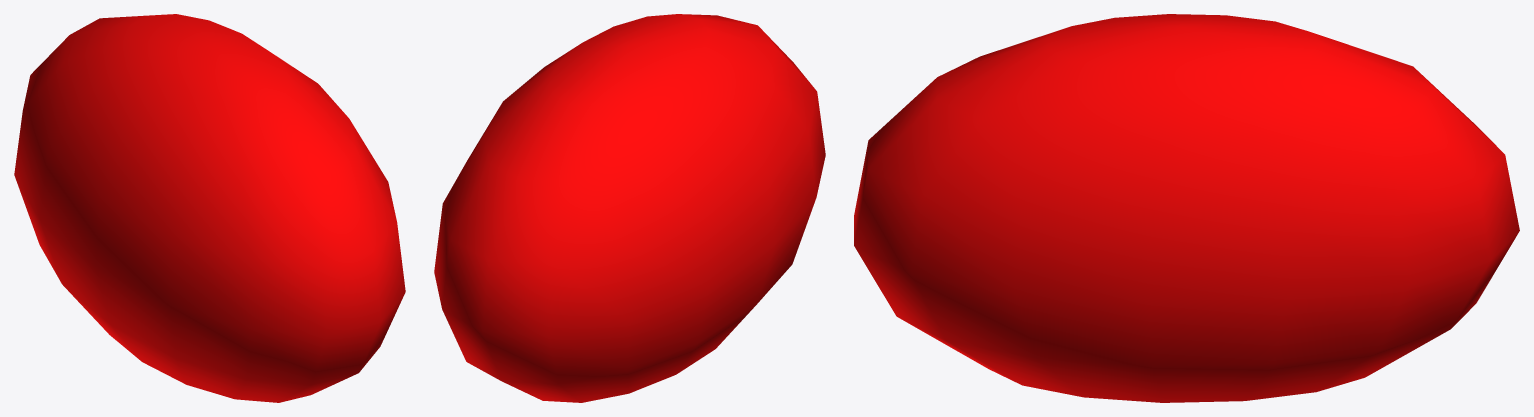
Rendered from tomato seed.FBX.
3 views of the same model, side by side, from view 1: azimuth 30°, elevation 25°; view 2: azimuth 150°, elevation 25°; view 3: azimuth 270°, elevation 25° (orthographic). The views are drawn at different scales.
Parts seen in each view (by area): view 1: Sphere001; view 2: Sphere001; view 3: Sphere001.
Part boxes in pixels (x1,y1,x2,y2): Sphere001: [14, 14, 405, 402]; Sphere001: [434, 14, 825, 402]; Sphere001: [854, 14, 1519, 402].
Size of the model in its own units: 7.13 by 8.44 by 13.86.
